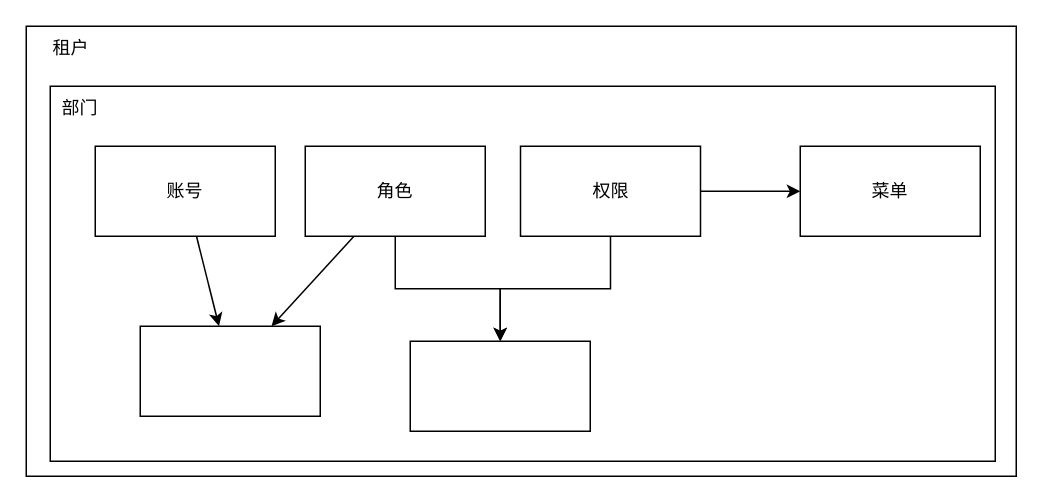
This 1043x503 diagram has some shape labels left out. The box of each missing label's shape, as (x1, y1, x2, y2) in pixels:
角色权限表: (409, 340, 590, 431)
账号角色表: (139, 325, 320, 416)
